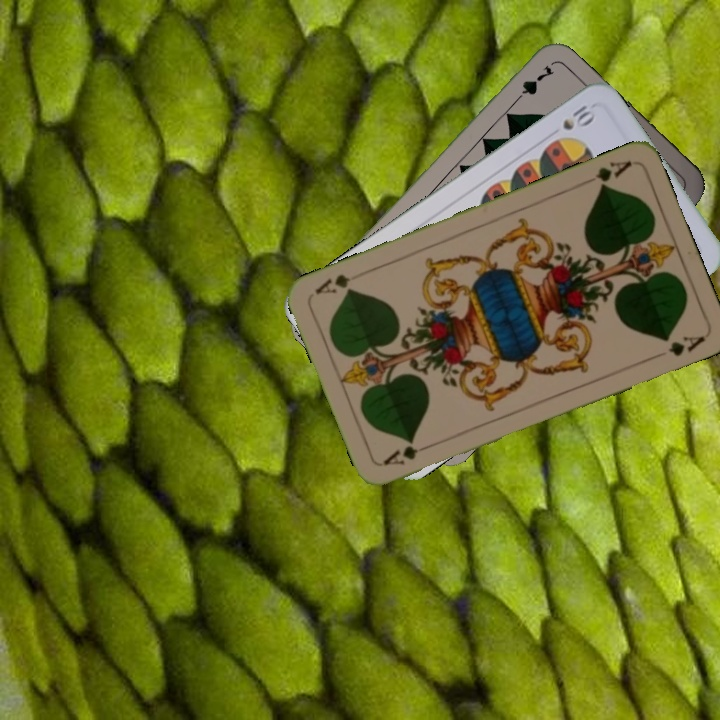G7: (507, 61, 554, 109)
GA: (578, 156, 635, 191), (379, 439, 436, 468)
S10: (558, 101, 598, 133)
